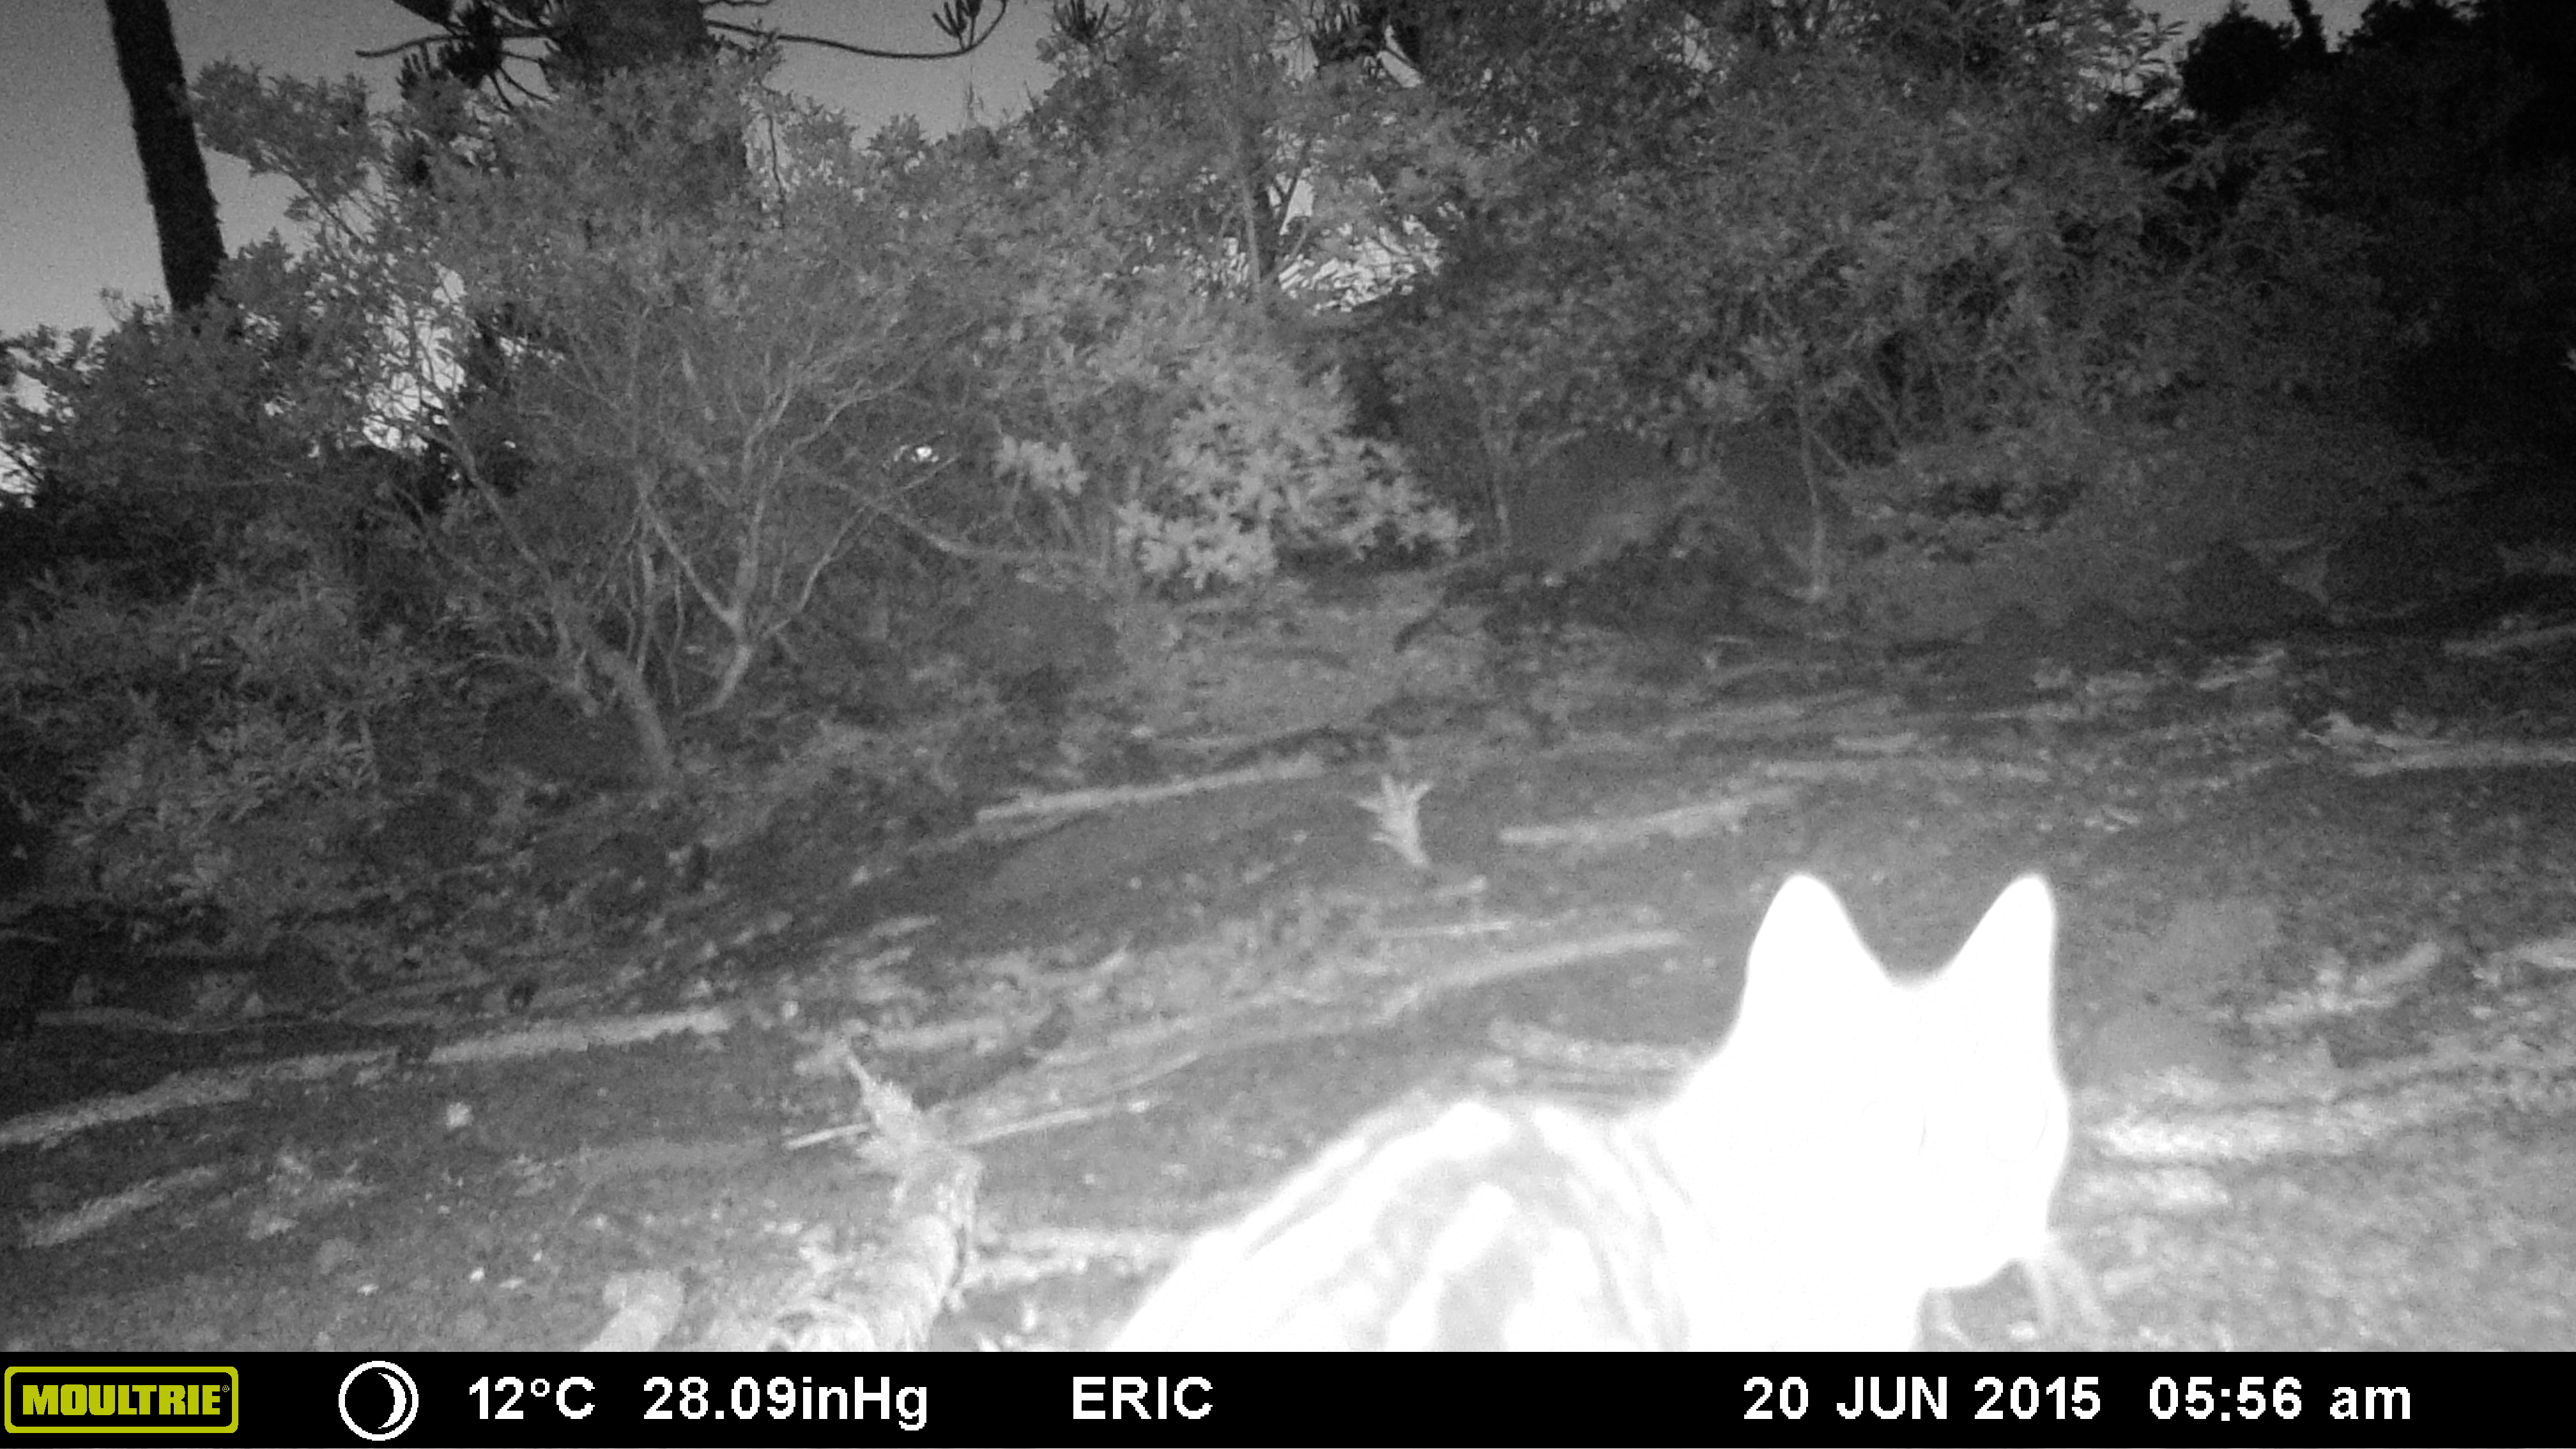cat: (1081, 865, 2088, 1352)
